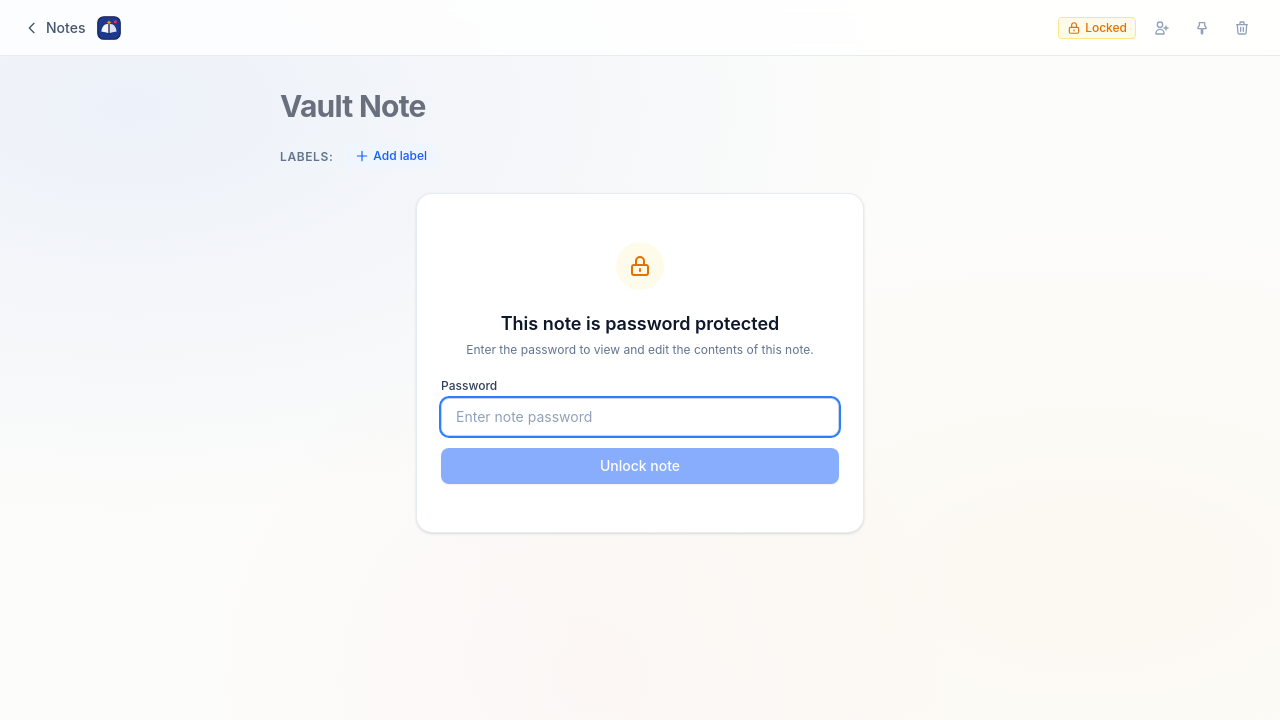
Test: SHARE-01 & SHARE-02 Note Protection Tests › Editor locked state and unlock flow (SHARE-02) › successfully unlocks note with valid password, reveals content, and allows editing
Expected: the element with test id "locked-note-view" is shown, [416, 193, 864, 533]
Type "SecretKey2026!" into the password field with test id "unlock-password-input" at (640, 417), box [441, 398, 839, 436]
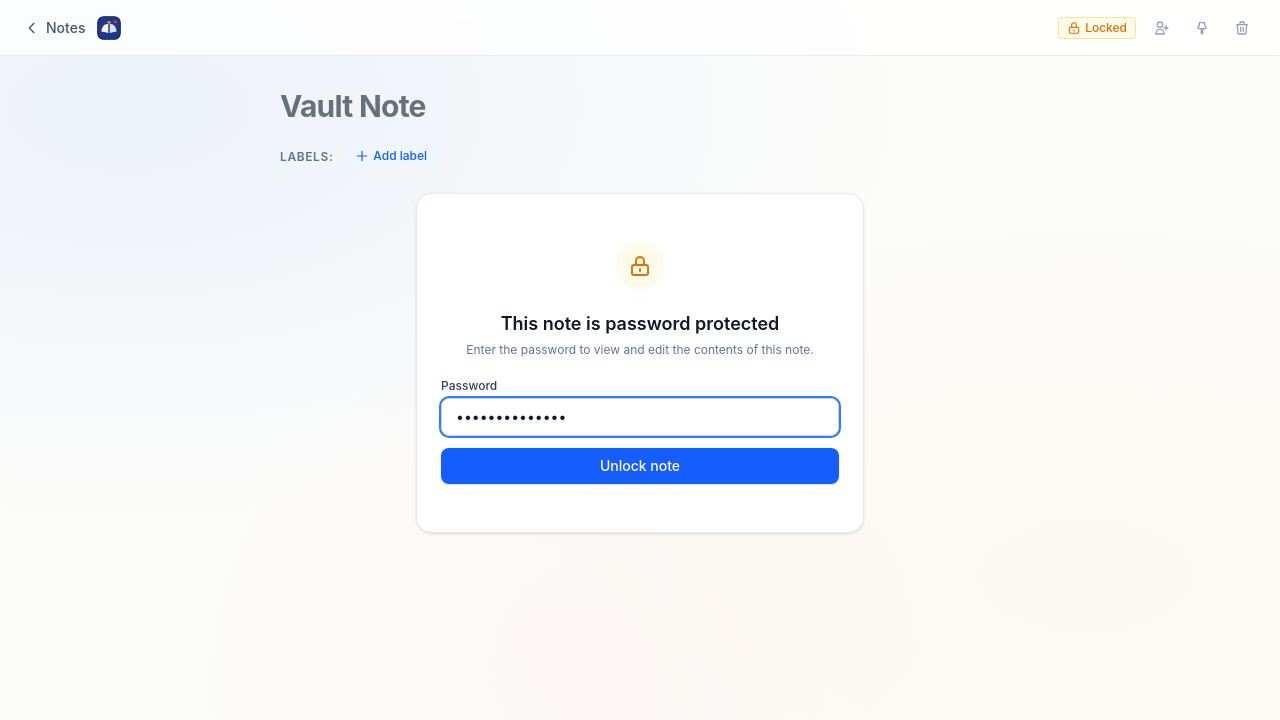
Click the button with test id "unlock-note-button" at (640, 466), box [441, 448, 839, 484]
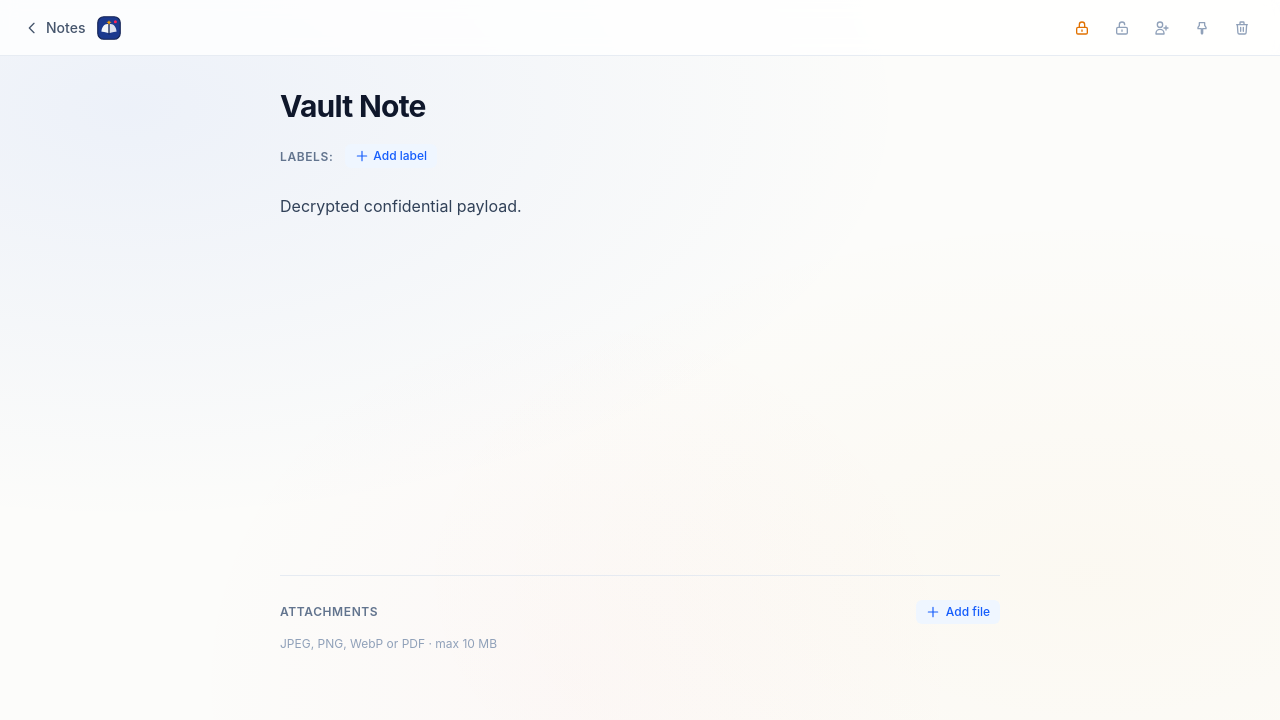
Now the text box with test id "note-content-input" holds "Decrypted confidential payload.", box [280, 193, 1000, 553]
Now the element with test id "locked-note-view" is gone
Now the field with test id "note-title-input" is enabled, box [280, 88, 1000, 124]
